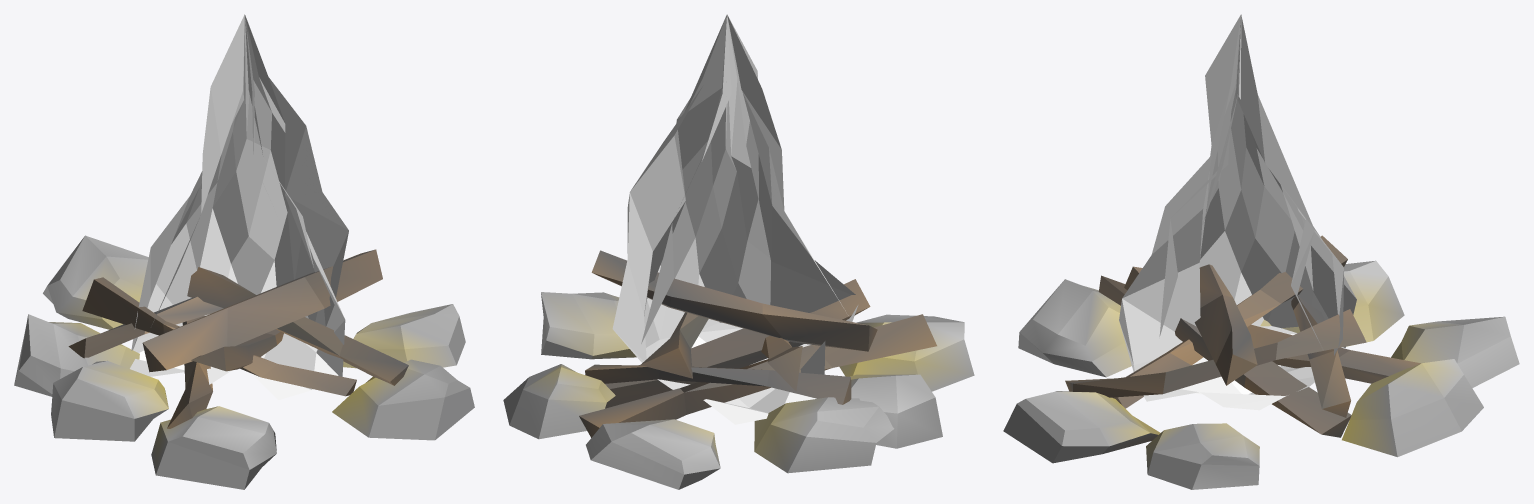
The model's file is fire.glb.
3 views of the same model, side by side, from view 1: azimuth 30°, elevation 25°; view 2: azimuth 150°, elevation 25°; view 3: azimuth 270°, elevation 25° (orthographic). The views are drawn at different scales.
Parts seen in each view (by area): view 1: Prop, Fire; view 2: Prop, Fire; view 3: Prop, Fire.
Boxes of the visible parts, x1,y1,x2,y2 form: Prop: (14,235,474,489); Fire: (130,14,348,400); Prop: (503,250,974,489); Fire: (612,14,858,424); Prop: (1003,235,1519,489); Fire: (1119,14,1356,410).
Bounding box in the file's own units: 0.5462 × 0.4882 × 0.5879.
